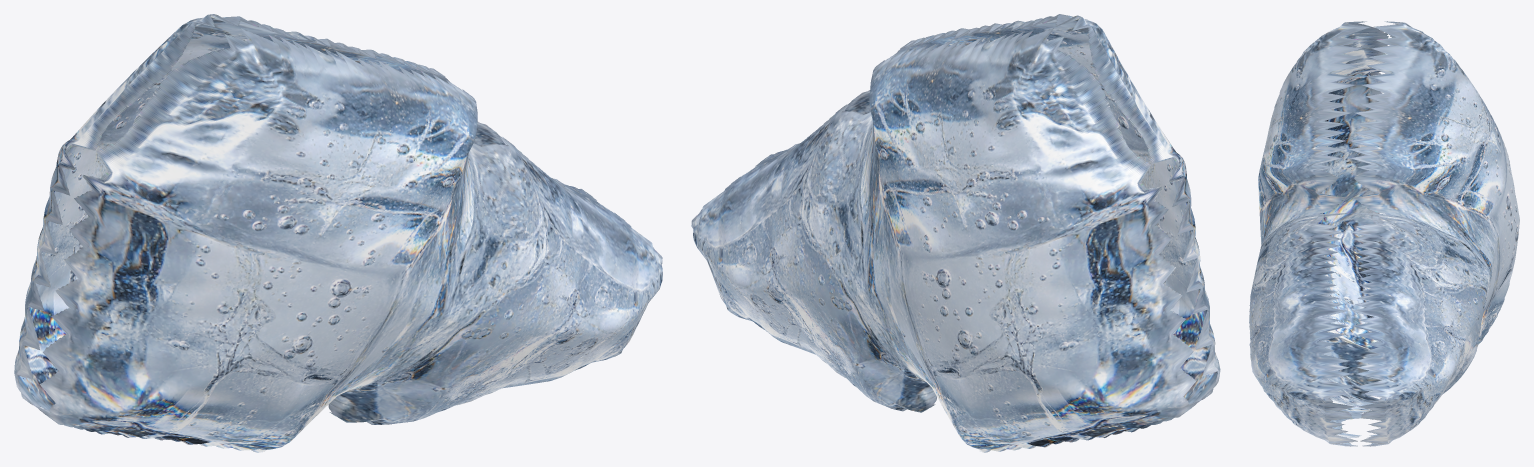
File: hielo.glb
The picture shows the model from 3 angles, left to right: view 1: azimuth 30°, elevation 25°; view 2: azimuth 150°, elevation 25°; view 3: azimuth 270°, elevation 25°; orthographic projection. The views are drawn at different scales.
Visible parts, largest first — view 1: hielo; view 2: hielo; view 3: hielo.
Boxes of the visible parts, box(x1,y1,x2,y2) form: hielo: box(14, 14, 662, 452); hielo: box(691, 14, 1220, 452); hielo: box(1249, 21, 1519, 446).
Bounding box in the file's own units: 1.98 × 1.46 × 1.06.
1 material, 1 textured.
